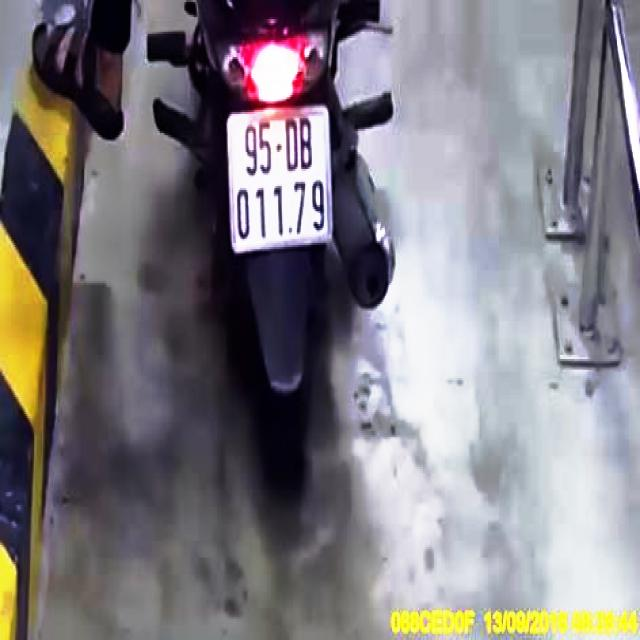license_plate: (227, 108, 333, 252)
